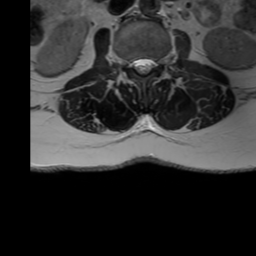CCS_normal: (140, 50, 147, 84)
LFS_stenosis: (155, 50, 162, 73)
LLS_normal: (147, 50, 155, 77)
RFS_normal: (123, 51, 131, 76)
RLS_normal: (131, 52, 140, 79)
